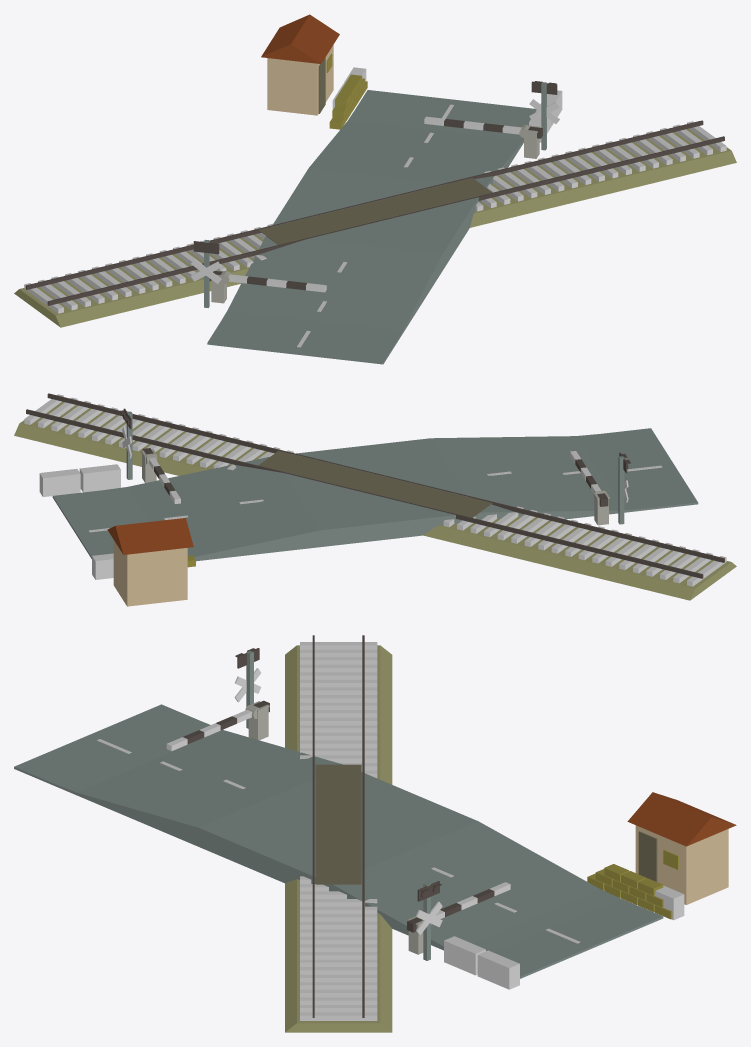
The model's file is SM_PasoNivel_45E_v3_Militar_LOD0.fbx.
3 views of the same model, one above another, from view 1: azimuth 30°, elevation 25°; view 2: azimuth 150°, elevation 25°; view 3: azimuth 270°, elevation 25° (orthographic). The views are drawn at different scales.
Visible parts, largest first — view 1: SM_paso_nivel_kit_v33_LOD0, Barrera_1, Barrera_2; view 2: SM_paso_nivel_kit_v33_LOD0, Barrera_1, Barrera_2; view 3: SM_paso_nivel_kit_v33_LOD0, Barrera_2, Barrera_1.
Boxes of the visible parts, x1=… form: SM_paso_nivel_kit_v33_LOD0: x1=14, y1=14, x2=736, y2=364; Barrera_1: x1=424, y1=116, x2=542, y2=138; Barrera_2: x1=209, y1=270, x2=326, y2=292; SM_paso_nivel_kit_v33_LOD0: x1=14, y1=393, x2=736, y2=606; Barrera_1: x1=142, y1=448, x2=180, y2=503; Barrera_2: x1=570, y1=451, x2=608, y2=506; SM_paso_nivel_kit_v33_LOD0: x1=14, y1=635, x2=736, y2=1032; Barrera_2: x1=166, y1=700, x2=269, y2=751; Barrera_1: x1=407, y1=882, x2=510, y2=932.
Bounding box in the file's own units: 30 × 3 × 24.25.
